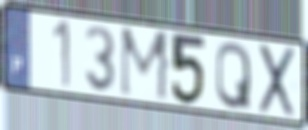1: (52, 19, 71, 91)
3: (83, 24, 117, 93)
5: (168, 31, 209, 108)
M: (118, 25, 172, 105)
Q: (214, 40, 253, 112)
X: (257, 42, 297, 120)
